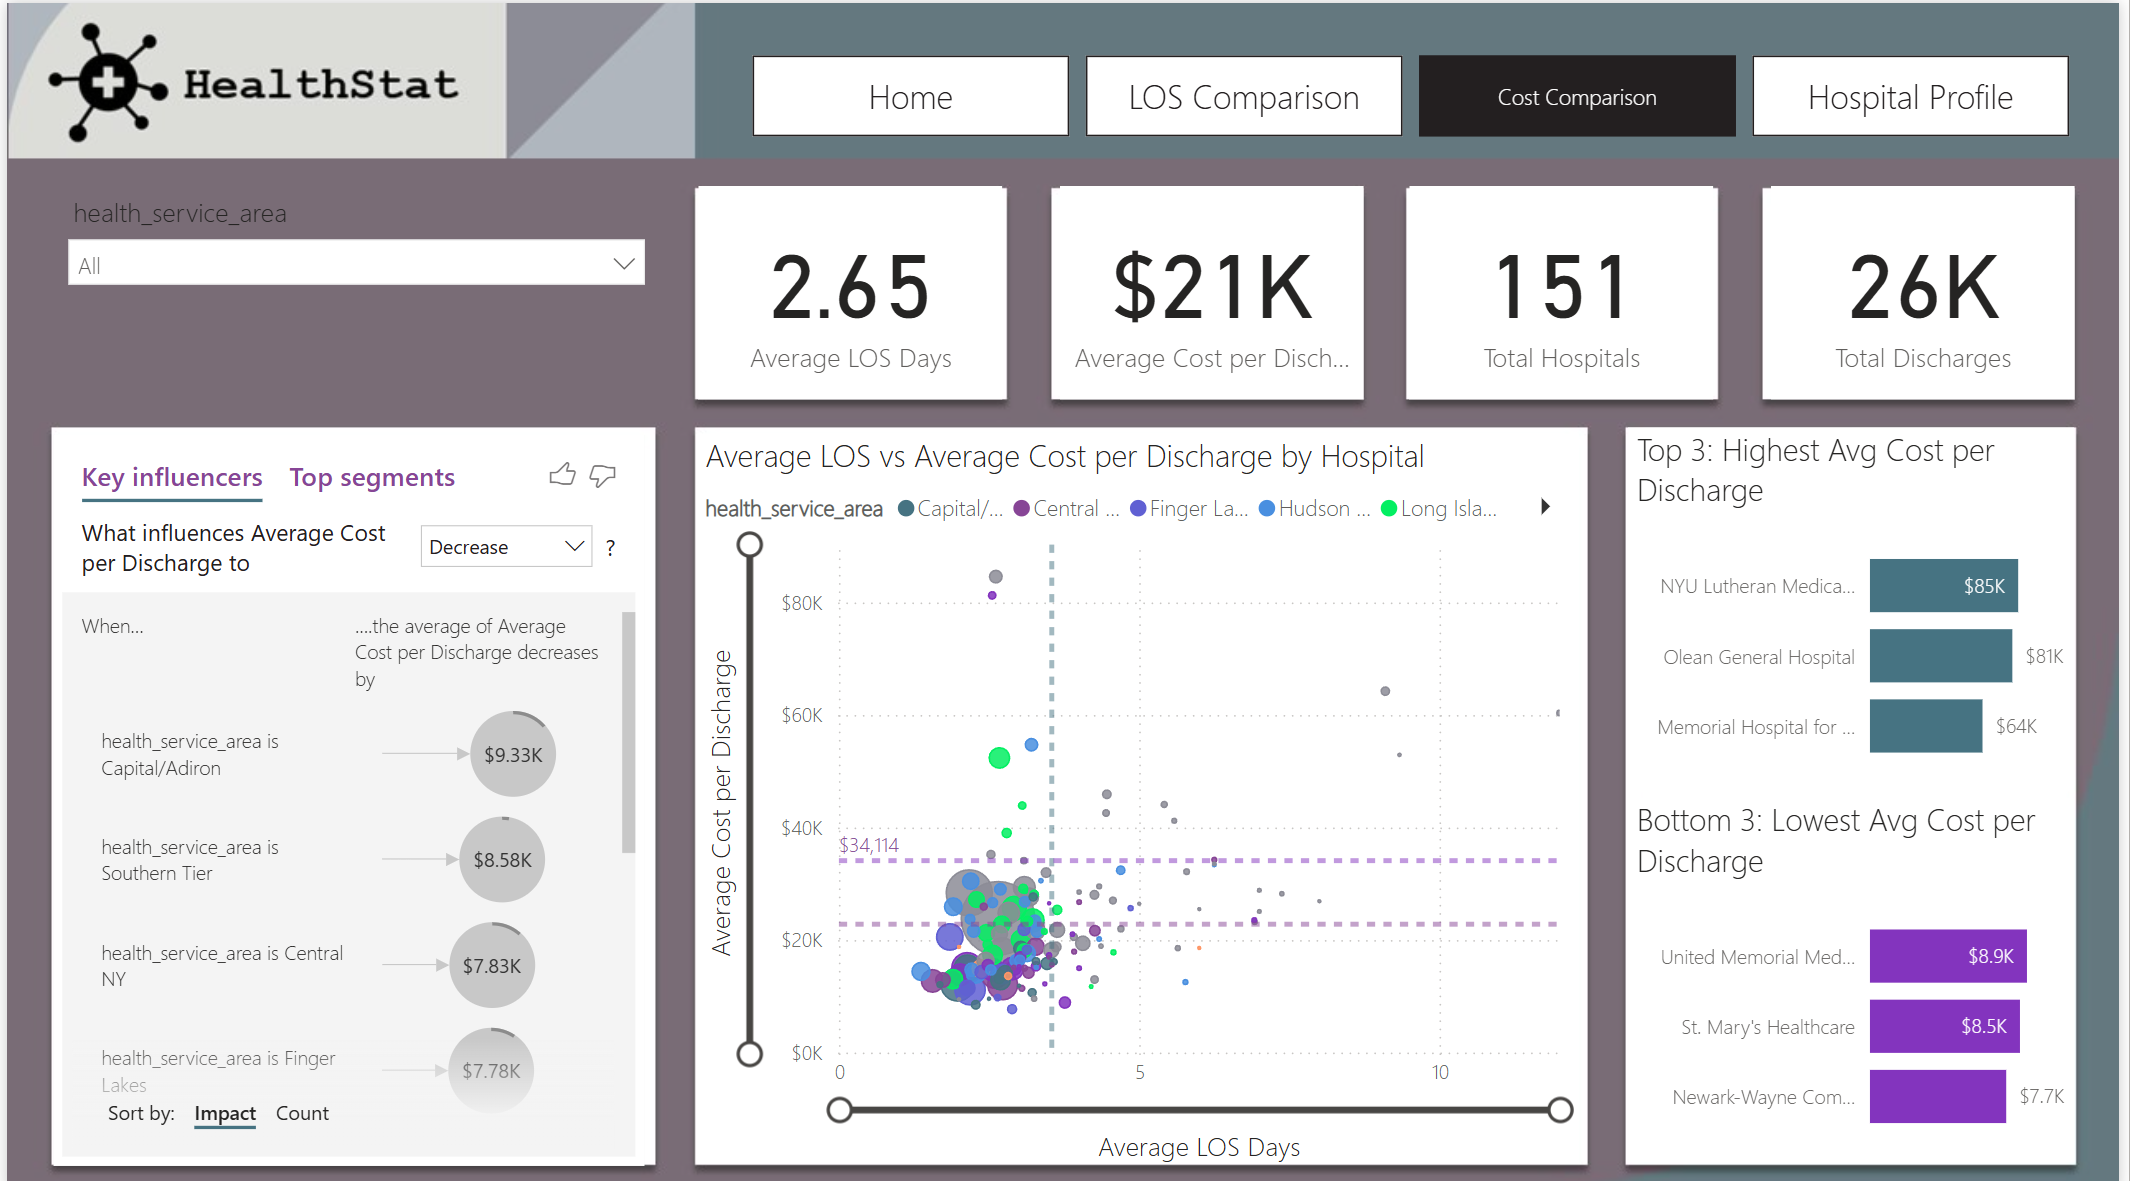

Layout of this report page (visuals, bound fields, positions):
{"tool":"powerbi","page":{"name":"Cost Comparison","canvas":[1280,720],"ordinal":2},"visuals":[{"type":"scatterChart","title":"Average LOS vs Average Cost per Discharge by Hospital","fields":{"Category":["hospital_discharges.facility_name"],"Series":["hospital_discharges.health_service_area"],"Size":["_Measures.Total Discharges"],"X":["_Measures.Average LOS Days"],"Y":["_Measures.Average Cost per Discharge"]},"box":[418.5,260.7,533.8,441.9],"z":0},{"type":"slicer","fields":{"Values":["hospital_discharges.health_service_area"]},"box":[27.4,109.8,369.1,130.4],"z":1000},{"type":"keyDriversVisual","fields":{"ExplainBy":["hospital_discharges.apr_risk_of_mortality","hospital_discharges.apr_severity_of_illness_description","hospital_discharges.ccs_diagnosis_description","hospital_discharges.patient_disposition","hospital_discharges.gender","hospital_discharges.Age Bins","surgical_program_size_summary.Surgical Program Size","hospital_discharges.health_service_area"],"Target":["_Measures.Average Cost per Discharge"]},"box":[27.7,261.4,357.7,442.4],"z":2000},{"type":"clusteredBarChart","title":"Top 3: Highest Avg Cost per Discharge","fields":{"Category":["hospital_discharges.facility_name"],"Y":["_Measures.Average Cost per Discharge"]},"box":[982.7,257,270.1,220.5],"z":3000},{"type":"clusteredBarChart","title":"Bottom 3: Lowest Avg Cost per Discharge","fields":{"Category":["hospital_discharges.facility_name"],"Y":["_Measures.Average Cost per Discharge"]},"box":[982.7,481.9,270.1,220.5],"z":4000},{"type":"card","fields":{"Values":["_Measures.Average LOS Days"]},"box":[419.1,111,184,129],"z":5000},{"type":"card","fields":{"Values":["_Measures.Average Cost per Discharge"]},"box":[638.1,111,184,129],"z":6000},{"type":"card","fields":{"Values":["_Measures.Total Hospitals"]},"box":[849.8,111,184,129],"z":7000},{"type":"card","fields":{"Values":["_Measures.Total Discharges"]},"box":[1068.9,111,184,129],"z":8000},{"type":"pageNavigator","box":[438.6,37.1,800,48.6],"z":9001}]}

Visuals, with their boxes in screenshot pixels (x1, y1, x2, y2), scaled from the page's 1280x720 canvas onto the 2133x1181 screenshot:
"Average LOS vs Average Cost per Discharge by Hospital" scatterChart: (x1=697, y1=428, x2=1587, y2=1152)
slicer - hospital_discharges.health_service_area: (x1=46, y1=180, x2=661, y2=394)
keyDriversVisual - hospital_discharges.apr_risk_of_mortality x hospital_discharges.apr_severity_of_illness_description: (x1=46, y1=429, x2=642, y2=1154)
"Top 3: Highest Avg Cost per Discharge" clusteredBarChart: (x1=1638, y1=422, x2=2088, y2=783)
"Bottom 3: Lowest Avg Cost per Discharge" clusteredBarChart: (x1=1638, y1=790, x2=2088, y2=1152)
card - _Measures.Average LOS Days: (x1=698, y1=182, x2=1005, y2=394)
card - _Measures.Average Cost per Discharge: (x1=1063, y1=182, x2=1370, y2=394)
card - _Measures.Total Hospitals: (x1=1416, y1=182, x2=1723, y2=394)
card - _Measures.Total Discharges: (x1=1781, y1=182, x2=2088, y2=394)
pageNavigator: (x1=731, y1=61, x2=2064, y2=141)
